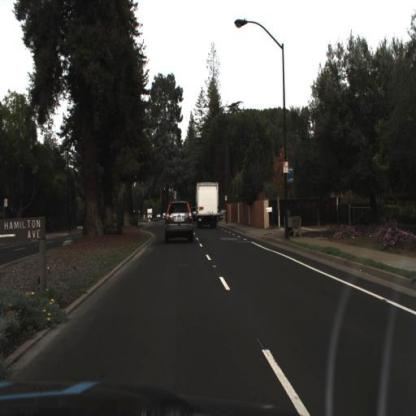car: (163, 197, 199, 255), (193, 179, 227, 233)
truck: (195, 179, 221, 228), (148, 208, 154, 224)
